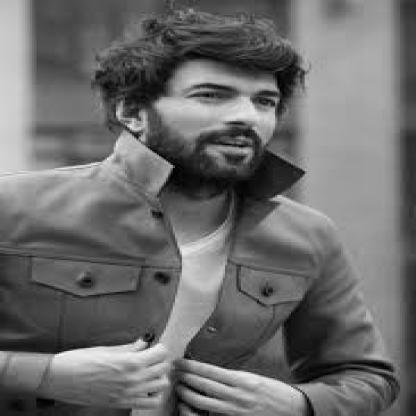person: (106, 11, 298, 195)
